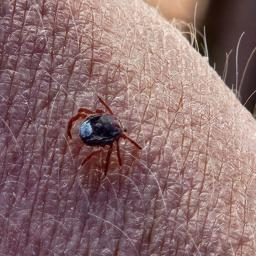Rhipicephalus sanguineus: (66, 96, 142, 176)
